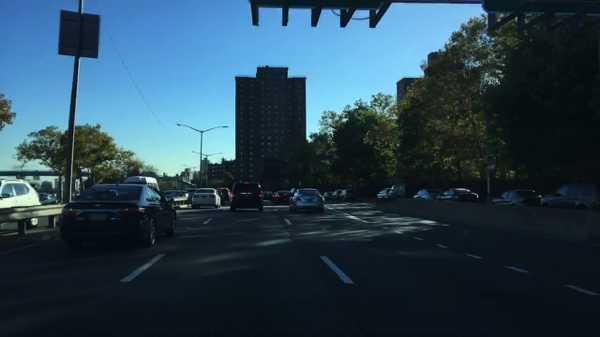car: (57, 183, 178, 247), (1, 179, 40, 230), (539, 184, 599, 214), (229, 182, 264, 213), (490, 189, 543, 206), (289, 188, 325, 213), (434, 187, 479, 203), (191, 188, 222, 210), (125, 176, 160, 191), (389, 183, 419, 198), (412, 188, 442, 201), (39, 192, 59, 205), (274, 189, 291, 203), (217, 187, 231, 203), (340, 188, 357, 201), (164, 190, 184, 198), (376, 188, 391, 198), (216, 189, 225, 205), (330, 189, 341, 200), (187, 189, 198, 197), (262, 190, 272, 198), (289, 187, 296, 198), (323, 191, 333, 198), (270, 191, 276, 199), (182, 190, 188, 197)
traffic sign: (57, 10, 100, 59)
